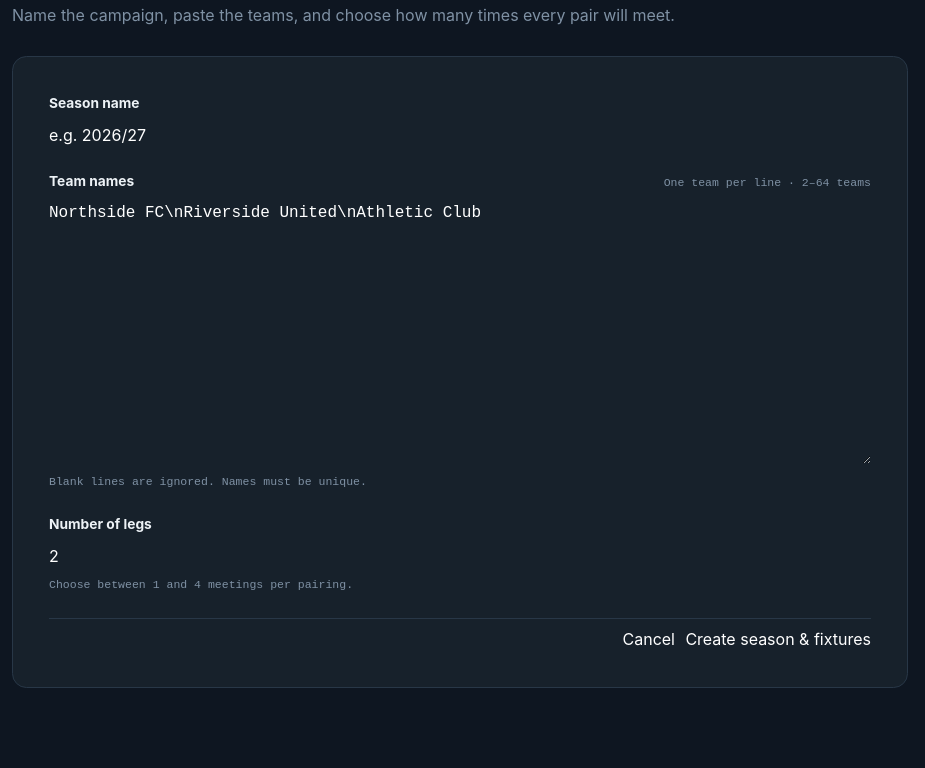
Scenario: new season view › validates required season and team fields
(page scrolled)
Click the button "Create season & fixtures" at [778, 639], box x1=685 y1=627 x2=871 y2=651
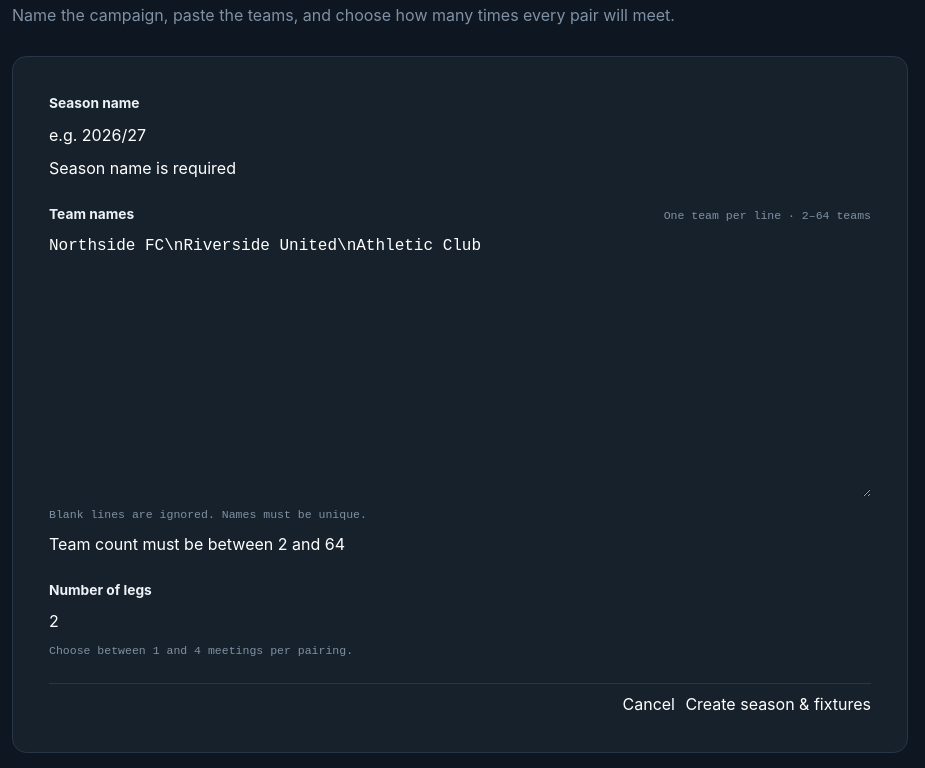
expect the text "Season name is required" is shown: met, box x1=49 y1=156 x2=236 y2=180
expect the text "Team count must be between 2 and 64" is shown: met, box x1=49 y1=532 x2=345 y2=556
